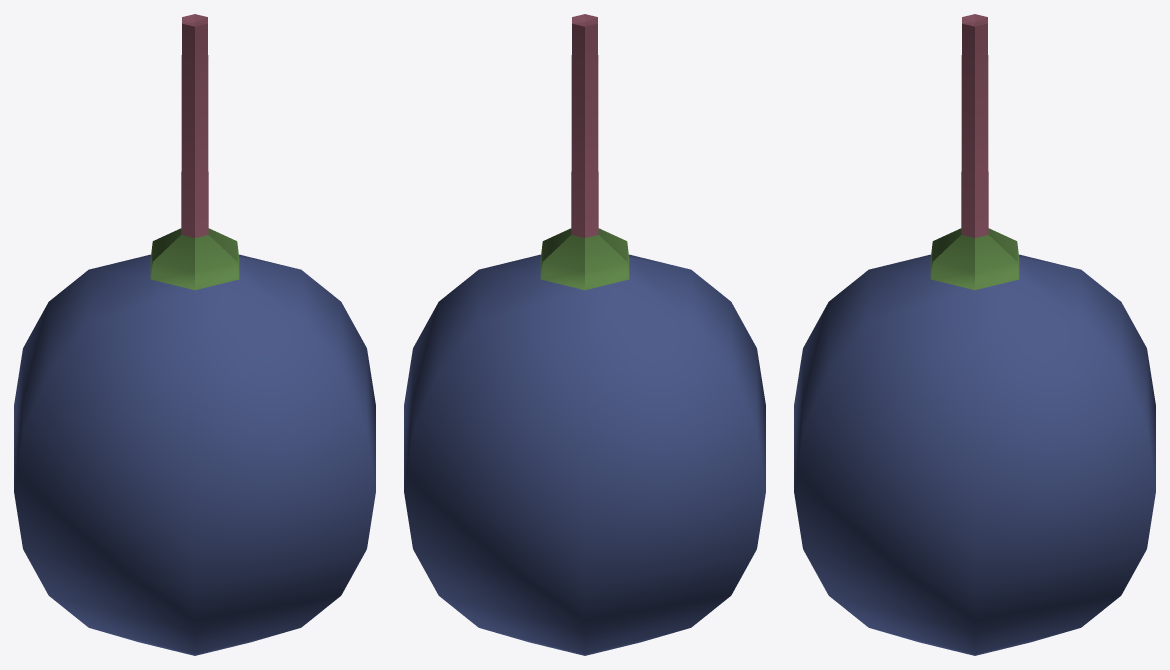
File: roofLamp.fbx
3 renders of one model, left to right at view 1: azimuth 30°, elevation 25°; view 2: azimuth 150°, elevation 25°; view 3: azimuth 270°, elevation 25°, orthographic.
Parts seen in each view (by area): view 1: takLamp; view 2: takLamp; view 3: takLamp.
Boxes of the visible parts, left/top/right/bottom form: takLamp: left=14, top=14, right=375, bottom=655; takLamp: left=404, top=14, right=765, bottom=655; takLamp: left=794, top=14, right=1155, bottom=655.
Bounding box in the file's own units: 1.04 × 1.69 × 0.8968.
